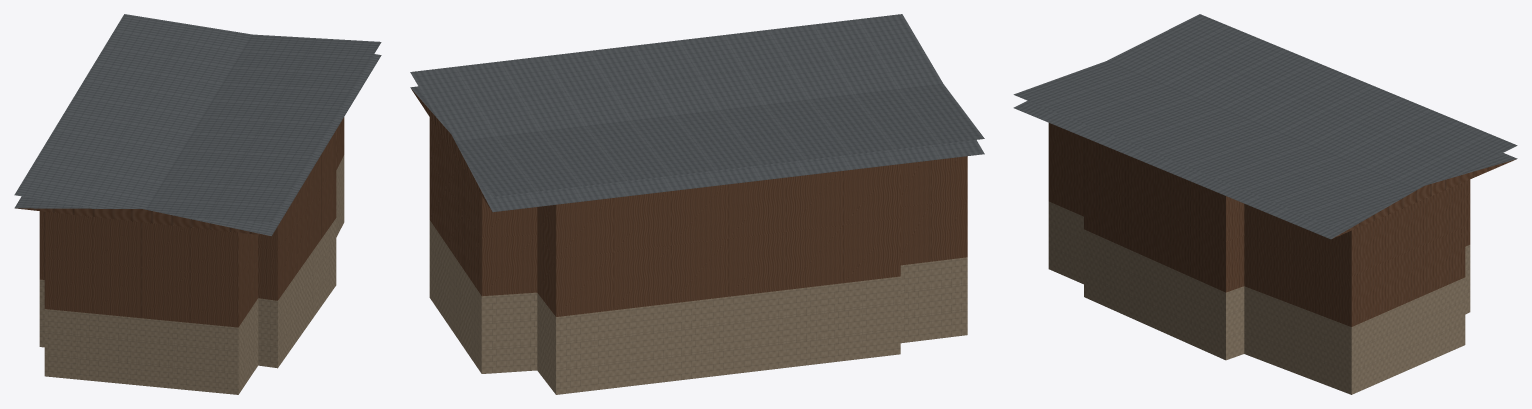
Rendered from bld_c2_-8_597.gltf.
3 renders of one model, left to right at view 1: azimuth 30°, elevation 25°; view 2: azimuth 150°, elevation 25°; view 3: azimuth 270°, elevation 25°, orthographic. The views are drawn at different scales.
Visible parts, largest first — view 1: bld_c2_-8_597; view 2: bld_c2_-8_597; view 3: bld_c2_-8_597.
Part boxes in pixels (box(x1,y1,x2,y2)): bld_c2_-8_597: box(14, 14, 381, 394); bld_c2_-8_597: box(410, 14, 984, 394); bld_c2_-8_597: box(1013, 14, 1517, 394).
Size of the model in its own units: 34.24 by 13.7 by 34.42.
4 materials, 4 textured.
